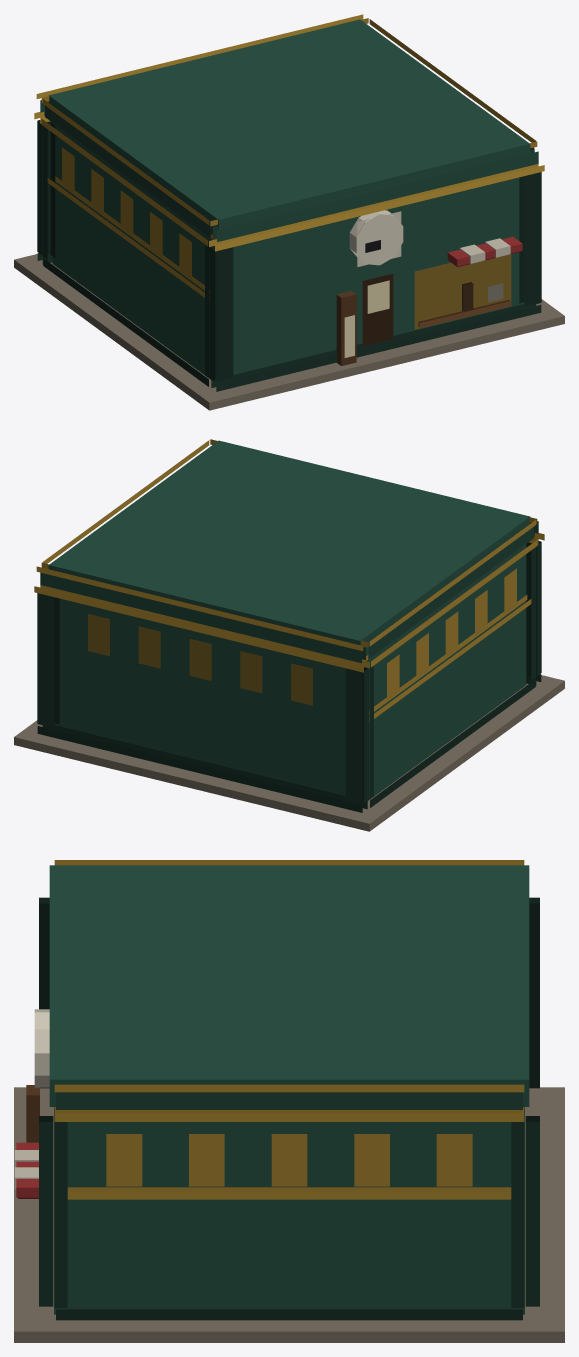
File: ClockGolemSil.fbx
3 views of the same model, one above another, from view 1: azimuth 30°, elevation 25°; view 2: azimuth 150°, elevation 25°; view 3: azimuth 270°, elevation 25° (orthographic). The views are drawn at different scales.
Parts seen in each view (by area): view 1: CG_S_All; view 2: CG_S_All; view 3: CG_S_All.
Boxes of the visible parts, box(x1,y1,x2,y2) form: CG_S_All: box(14, 14, 564, 410); CG_S_All: box(14, 439, 564, 831); CG_S_All: box(14, 860, 564, 1342).
Size of the model in its own units: 42.04 by 19.9 by 40.04.
